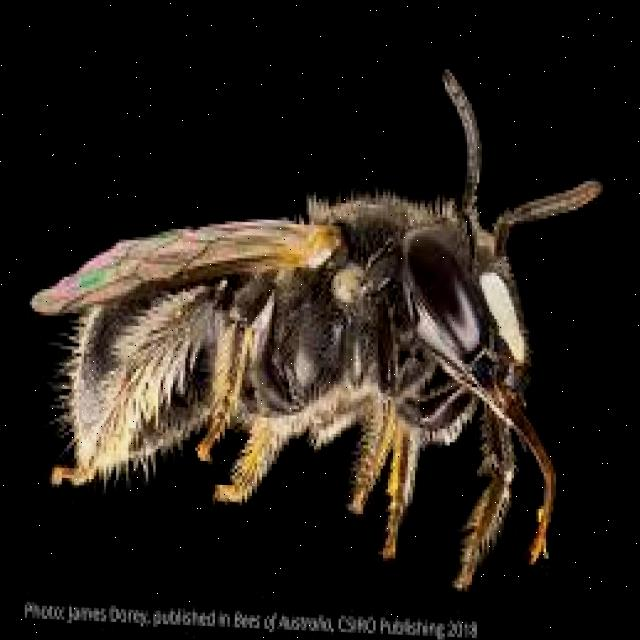Braunsapis: (43, 45, 616, 586)
